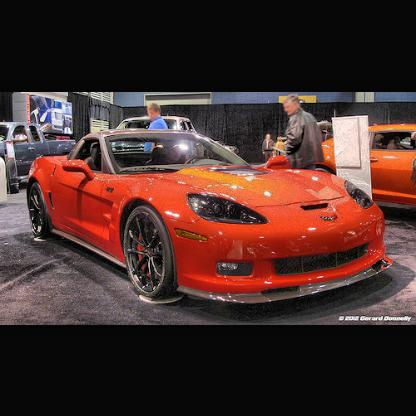Chevrolet Corvette ZR1 2012: (27, 131, 396, 316)
